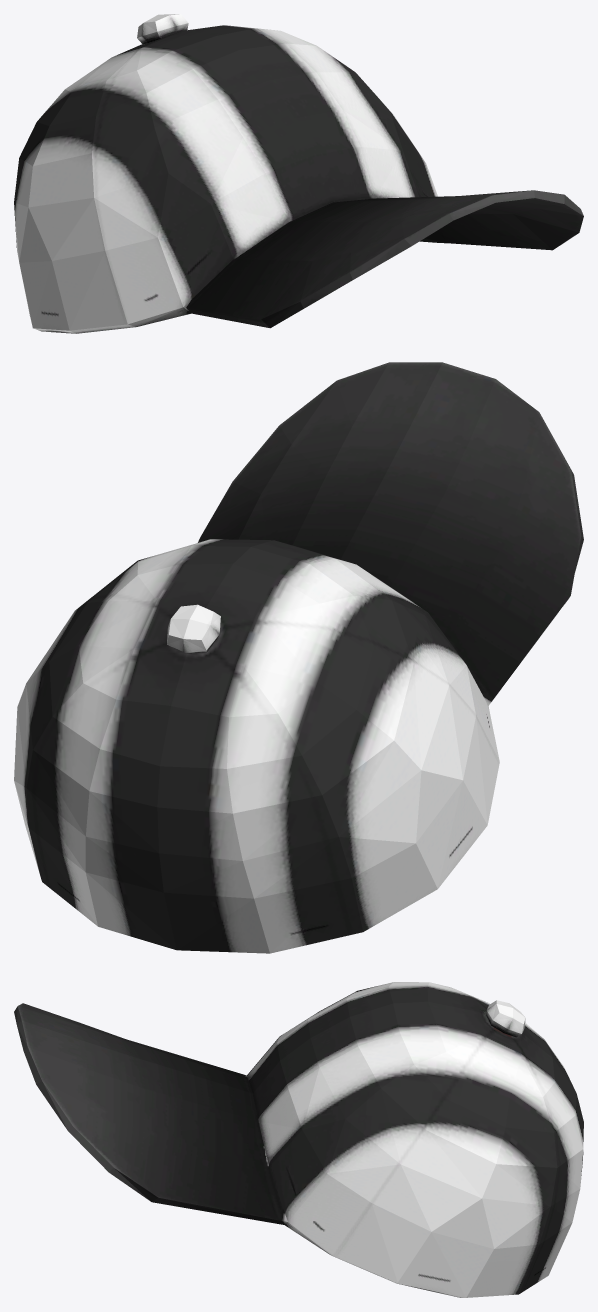
Rendered from Referee.obj.
3 renders of one model, top to bottom at view 1: azimuth 30°, elevation 25°; view 2: azimuth 150°, elevation 25°; view 3: azimuth 270°, elevation 25°, orthographic. The views are drawn at different scales.
Visible parts, largest first — view 1: Referee; view 2: Referee; view 3: Referee.
Boxes of the visible parts, x1,y1,x2,y2 form: Referee: [14, 14, 583, 333]; Referee: [14, 362, 583, 953]; Referee: [14, 982, 583, 1297].
Bounding box in the file's own units: 0.407 × 0.3006 × 0.6158.
1 material, 1 textured.
